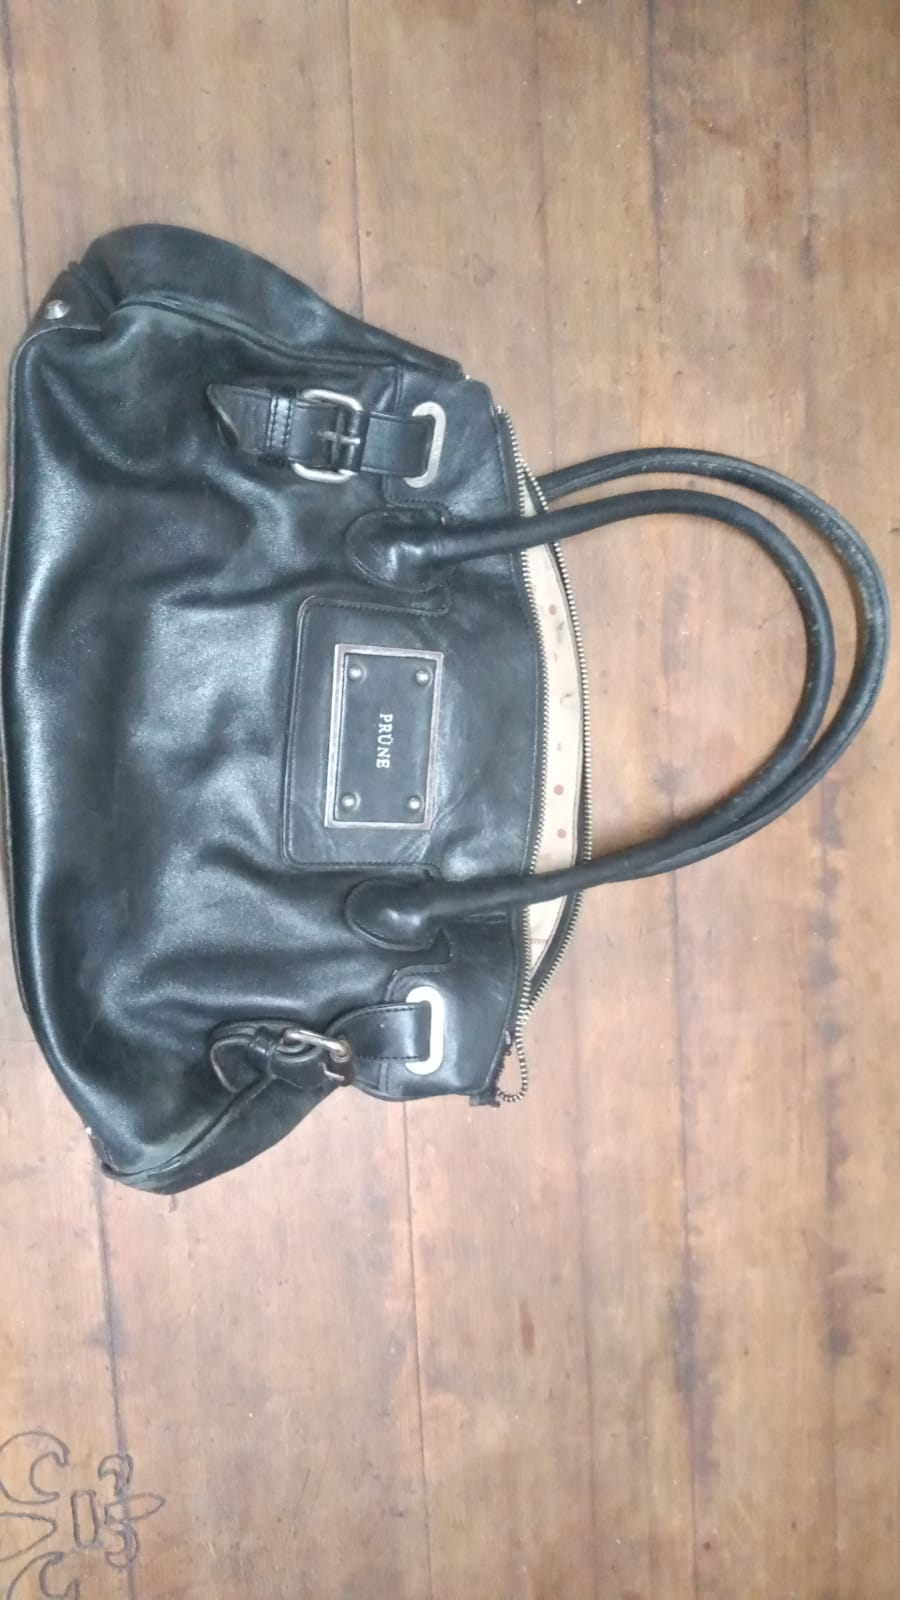cartera: (4, 201, 900, 1205)
cuero: (5, 215, 595, 1195)
